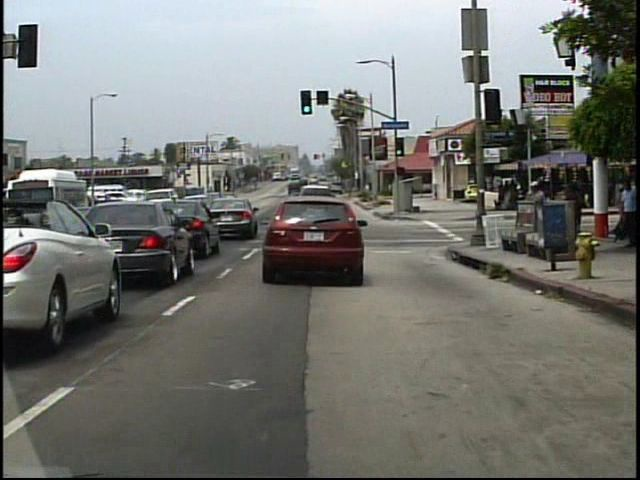person: (521, 177, 549, 245), (563, 178, 584, 247), (614, 180, 634, 249)
